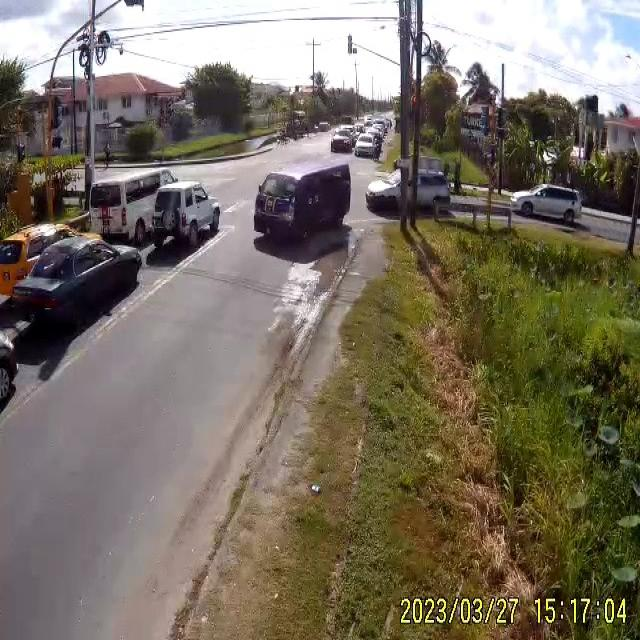car: (4, 232, 142, 338), (254, 165, 352, 247), (89, 172, 179, 243), (151, 185, 224, 251), (365, 170, 448, 216), (510, 183, 584, 226), (355, 134, 382, 161), (331, 133, 354, 155)
